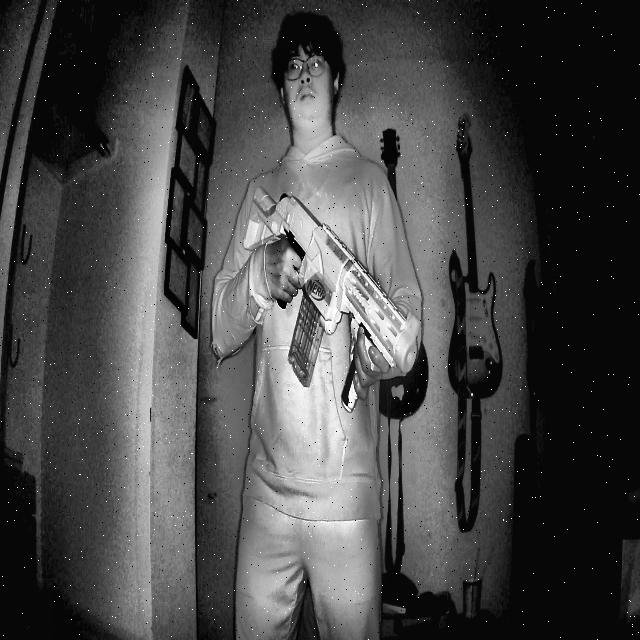Nerf_Blaster: (241, 153, 428, 434)
